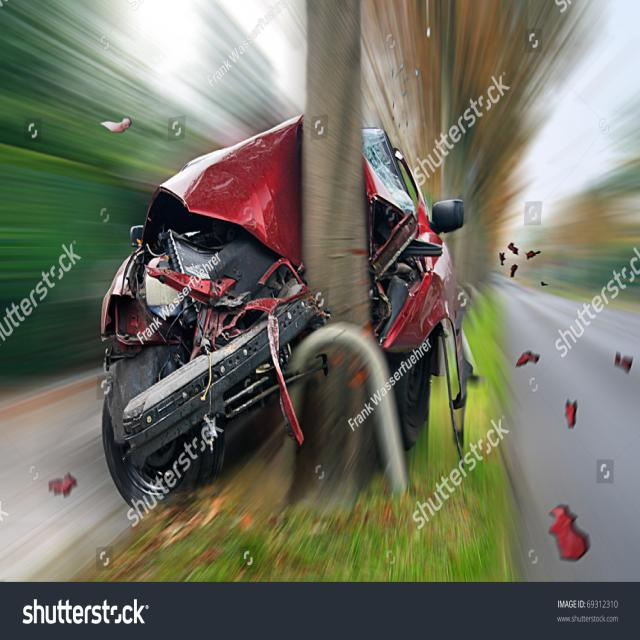crush: (103, 114, 473, 503)
